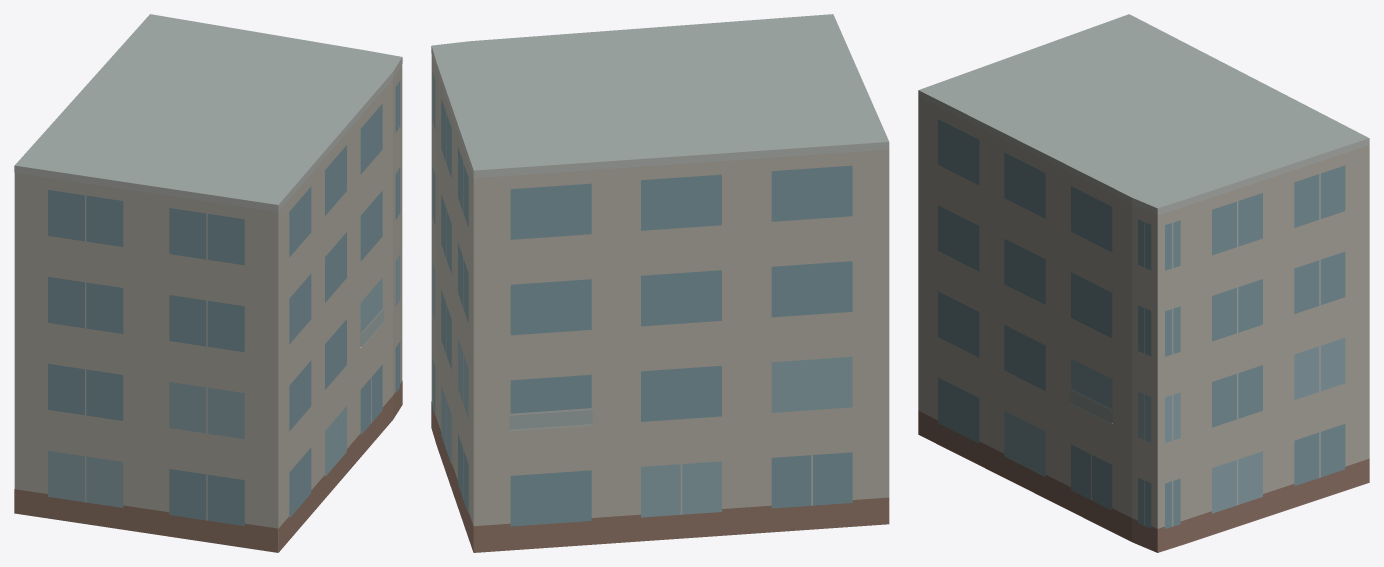
The model's file is survey-upis-32859108.glb.
3 views of the same model, side by side, from view 1: azimuth 30°, elevation 25°; view 2: azimuth 150°, elevation 25°; view 3: azimuth 270°, elevation 25° (orthographic). The views are drawn at different scales.
Visible parts, largest first — view 1: survey-upis-32859108.tmp; view 2: survey-upis-32859108.tmp; view 3: survey-upis-32859108.tmp.
Part boxes in pixels (x1,y1,x2,y2): survey-upis-32859108.tmp: (14, 14, 402, 552); survey-upis-32859108.tmp: (431, 14, 889, 552); survey-upis-32859108.tmp: (918, 14, 1369, 552).
Bounding box in the file's own units: 14.59 × 12.05 × 14.31.
